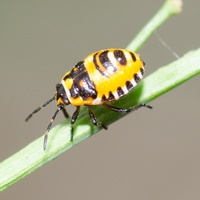insect: (25, 49, 144, 149)
